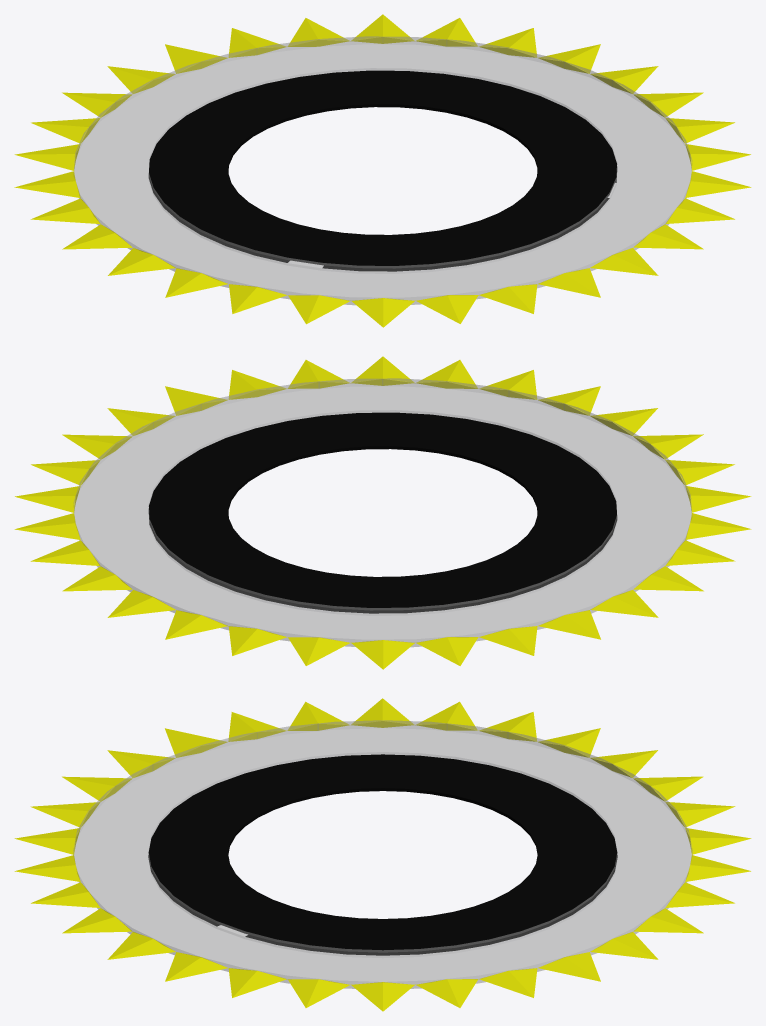
Rendered from sawblade.fbx.
3 renders of one model, top to bottom at view 1: azimuth 30°, elevation 25°; view 2: azimuth 150°, elevation 25°; view 3: azimuth 270°, elevation 25°, orthographic.
Visible parts, largest first — view 1: pPipe2; view 2: pPipe2; view 3: pPipe2.
Part boxes in pixels (box(x1,y1,x2,y2)): pPipe2: box(14, 14, 751, 327); pPipe2: box(14, 356, 751, 669); pPipe2: box(14, 698, 751, 1011).
Size of the model in its own units: 8.45 by 0.0991 by 8.4.
